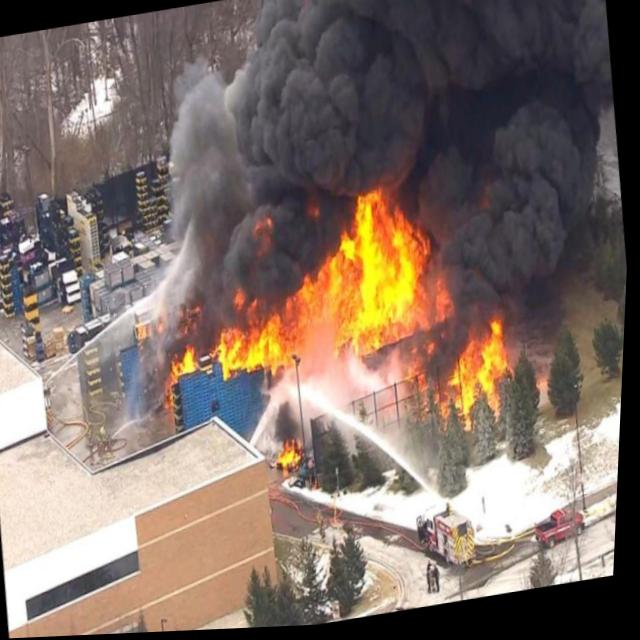fire: (143, 171, 476, 413), (398, 314, 530, 450), (271, 434, 314, 478), (136, 313, 173, 345)
